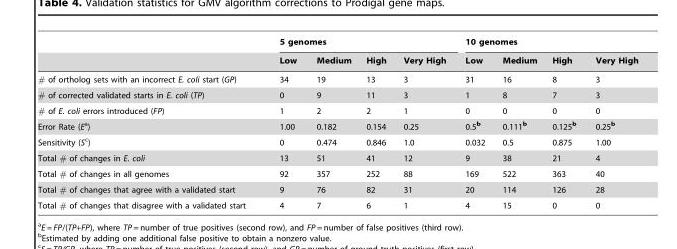table: (37, 37, 637, 209)
table column: (37, 37, 261, 209), (394, 37, 455, 209), (306, 37, 358, 209), (585, 37, 637, 209), (493, 37, 544, 209), (261, 37, 306, 209), (544, 37, 585, 209), (455, 37, 493, 209), (358, 37, 394, 209)
table column header: (37, 37, 637, 69)
table row: (37, 50, 637, 69), (37, 69, 637, 87), (37, 133, 637, 150), (37, 117, 637, 133), (37, 165, 637, 181), (37, 181, 637, 197), (37, 87, 637, 102), (37, 102, 637, 117), (37, 150, 637, 165), (37, 37, 637, 50), (37, 197, 637, 209)
table spanning cell: (261, 37, 455, 50), (455, 37, 637, 50)
